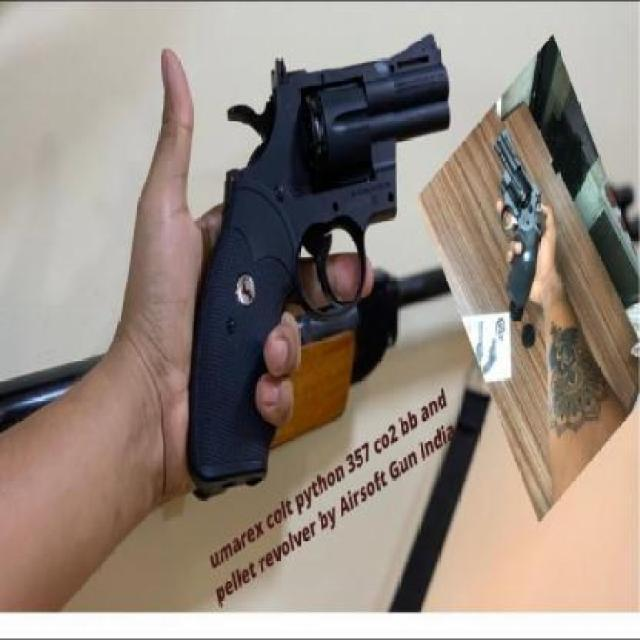gun: (148, 24, 466, 508)
